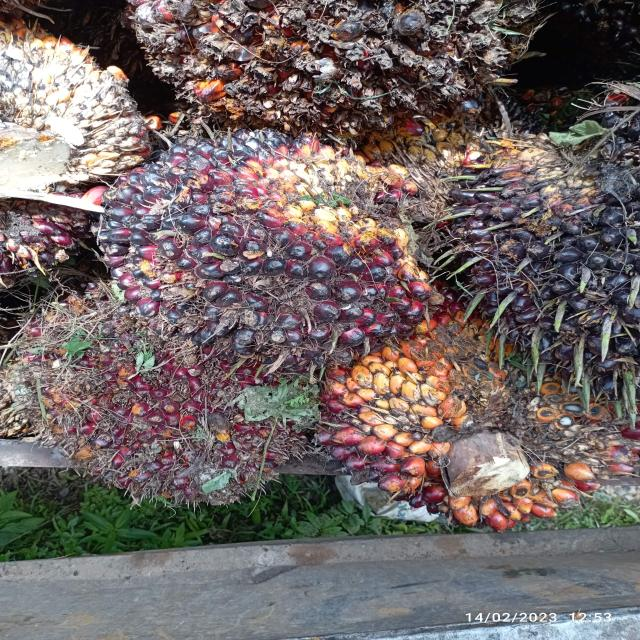fraksi 00: (464, 103, 640, 378)
fraksi 1: (86, 130, 458, 382)
fraksi 3: (4, 300, 310, 530)
